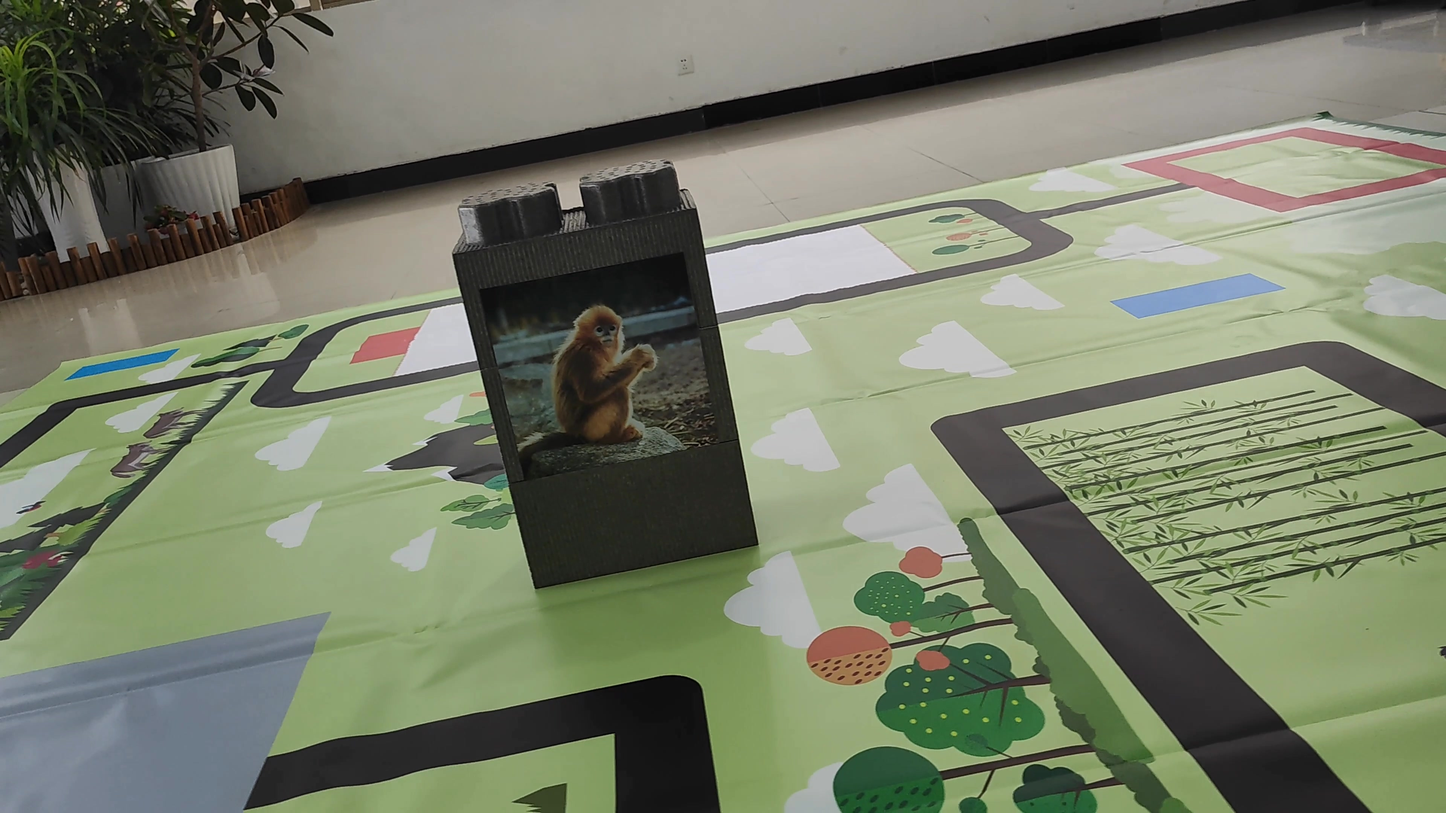monkey: (491, 253, 690, 490)
